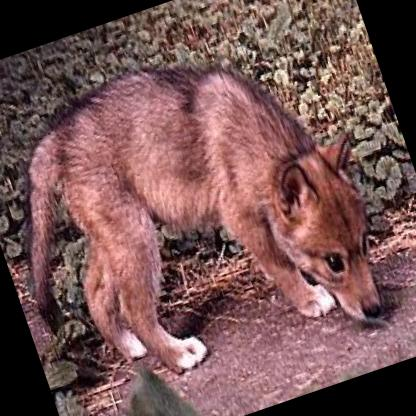dingo: (0, 7, 405, 416)
